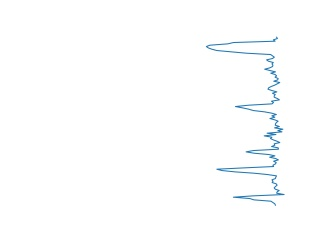distalBar: (203, 34, 283, 92)
interdistributaryEstuary: (233, 93, 287, 142)
underwaterNaturalLevee: (214, 144, 288, 208)
